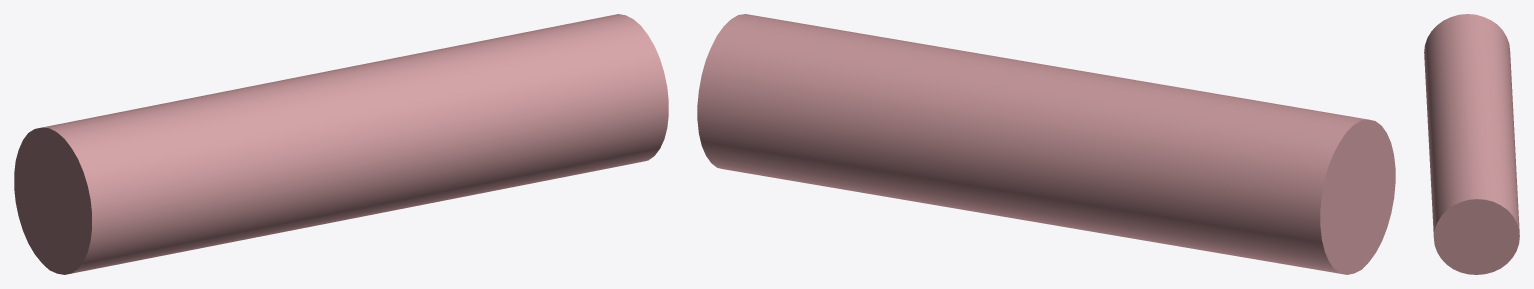
File: fma53135-r_mm2135m.glb
3 views of the same model, side by side, from view 1: azimuth 30°, elevation 25°; view 2: azimuth 150°, elevation 25°; view 3: azimuth 270°, elevation 25° (orthographic). The views are drawn at different scales.
Visible parts, largest first — view 1: FMA53135-R_MM2135M; view 2: FMA53135-R_MM2135M; view 3: FMA53135-R_MM2135M.
Part boxes in pixels (left/top/right/bottom): FMA53135-R_MM2135M: left=14, top=14, right=668, bottom=274; FMA53135-R_MM2135M: left=697, top=14, right=1395, bottom=274; FMA53135-R_MM2135M: left=1424, top=14, right=1519, bottom=274.
Bounding box in the file's own units: 0.0102 × 0.00281 × 0.00247.
